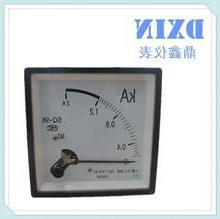pointer: (30, 72, 155, 191)
